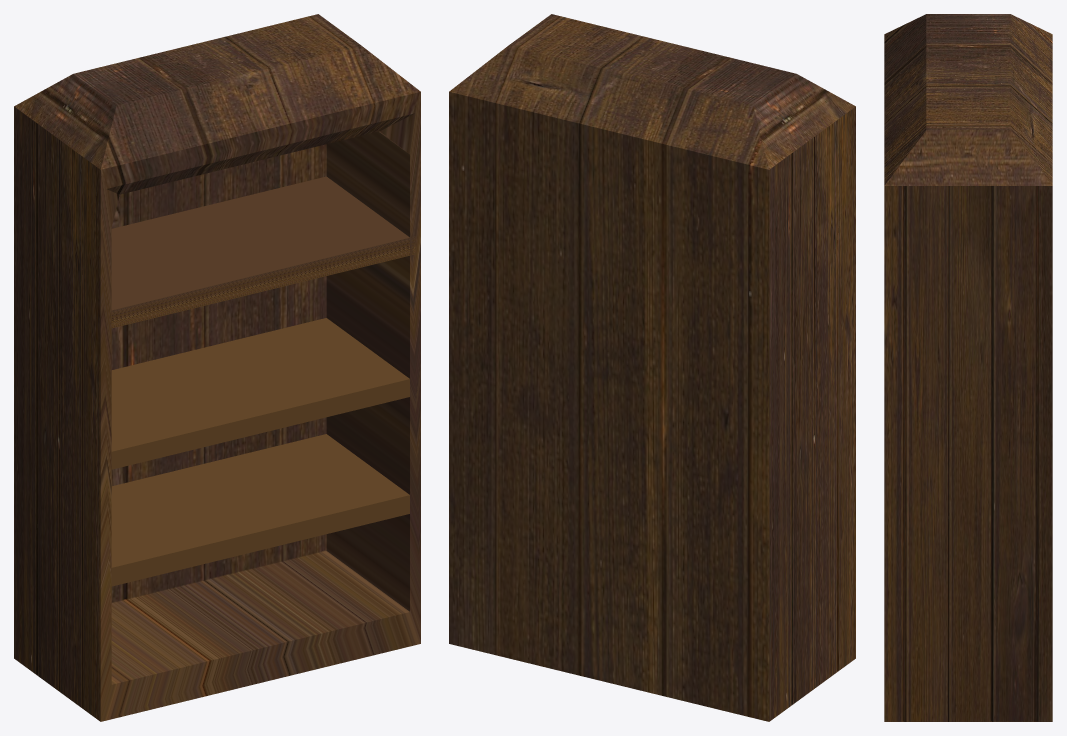
Rendered from Bookcase.fbx.
3 views of the same model, side by side, from view 1: azimuth 30°, elevation 25°; view 2: azimuth 150°, elevation 25°; view 3: azimuth 270°, elevation 25° (orthographic). The views are drawn at different scales.
Parts seen in each view (by area): view 1: pCube29; view 2: pCube29; view 3: pCube29.
Boxes of the visible parts, x1,y1,x2,y2 form: pCube29: (14, 14, 420, 721); pCube29: (449, 14, 855, 721); pCube29: (884, 14, 1052, 721).
Size of the model in its own units: 22.6 by 39.89 by 10.6.
1 material, 1 textured.
